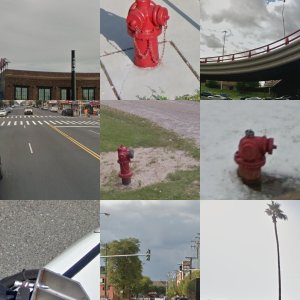棕梠樹: (200, 206, 300, 293)
汽車: (70, 31, 94, 48), (50, 24, 67, 38)
消防栓: (102, 46, 147, 99)
自行車: (243, 134, 295, 194)
行人穿越道: (1, 232, 102, 292), (1, 74, 100, 98), (199, 49, 300, 68)
